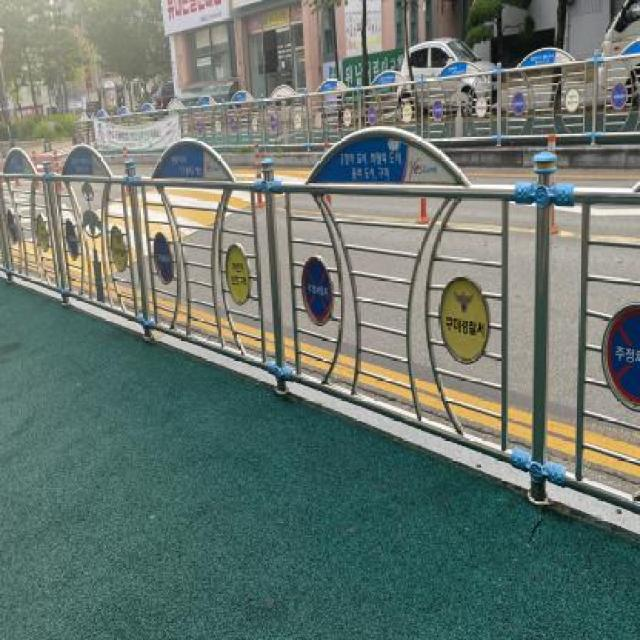fence: (238, 114, 640, 533), (12, 133, 309, 391)
